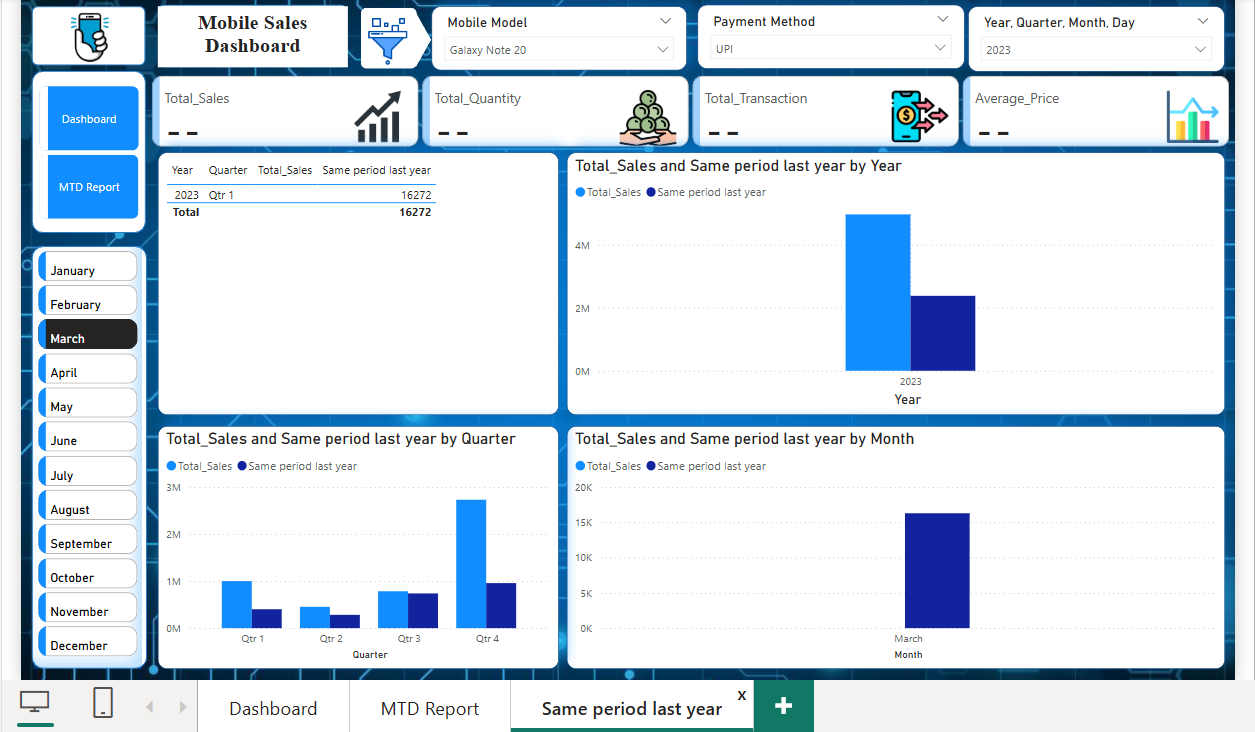

Layout of this report page (visuals, bound fields, positions):
{"tool":"powerbi","page":{"name":"Same period last year","canvas":[1280,720],"ordinal":2},"visuals":[{"type":"shape","box":[11.9,10.2,120.3,62.7],"z":0},{"type":"image","box":[35.6,5.1,72.9,72.9],"z":1000},{"type":"shape","box":[11.9,78,120.3,171.2],"z":2000},{"type":"cardVisual","fields":{"Data":["Sales_Data.Toatal_Sales","Sales_Data.Total_Quantity","Sales_Data.Total_Transaction","Sales_Data.Average_Price"]},"box":[132.9,77.8,1146,85.9],"z":3000},{"type":"slicer","fields":{"Values":["Sales_Data.Mobile Model"]},"box":[432.2,10.2,269.5,67.8],"z":4000},{"type":"slicer","fields":{"Values":["Sales_Data.Payment Method"]},"box":[713.6,8.5,281.4,67.8],"z":5000},{"type":"slicer","fields":{"Values":["CUSTOM_CALENDER.Date.Variation.Date Hierarchy.Year","CUSTOM_CALENDER.Date.Variation.Date Hierarchy.Quarter","CUSTOM_CALENDER.Date.Variation.Date Hierarchy.Month","CUSTOM_CALENDER.Date.Variation.Date Hierarchy.Day"]},"box":[998.4,9.8,270.5,68.9],"z":6000},{"type":"shape","box":[357.6,11.9,59.3,64.4],"z":7000},{"type":"shape","box":[400,16.9,32.2,57.6],"z":8000},{"type":"image","box":[311.5,16.4,150.8,60.7],"z":9000},{"type":"shape","box":[144.1,8.5,200,66.1],"z":10000},{"type":"textbox","box":[144.1,10.2,200,64.4],"z":11000},{"type":"shape","box":[11.3,262.6,121.6,445.8],"z":12000},{"type":"advancedSlicerVisual","fields":{"Values":["CUSTOM_CALENDER.Date.Variation.Date Hierarchy.Month"]},"box":[13,262.6,115.1,445.8],"z":13000},{"type":"tableEx","fields":{"Values":["CUSTOM_CALENDER.Date.Variation.Date Hierarchy.Year","CUSTOM_CALENDER.Date.Variation.Date Hierarchy.Quarter","Sales_Data.Total_Sales","Sales_Data.Same period last year"]},"box":[144.3,163.7,423.1,277.2],"z":14000},{"type":"clusteredColumnChart","fields":{"Category":["CUSTOM_CALENDER.Date.Variation.Date Hierarchy.Year","CUSTOM_CALENDER.Date.Variation.Date Hierarchy.Quarter"],"Y":["Sales_Data.Total_Sales","Sales_Data.Same period last year"]},"box":[575.4,163.7,693.8,277.2],"z":15000},{"type":"clusteredColumnChart","fields":{"Category":["CUSTOM_CALENDER.Date.Variation.Date Hierarchy.Year","CUSTOM_CALENDER.Date.Variation.Date Hierarchy.Quarter","CUSTOM_CALENDER.Date.Variation.Date Hierarchy.Month","CUSTOM_CALENDER.Date.Variation.Date Hierarchy.Day"],"Y":["Sales_Data.Total_Sales","Sales_Data.Same period last year"]},"box":[575.4,452.2,693.8,256.1],"z":16000},{"type":"clusteredColumnChart","fields":{"Category":["CUSTOM_CALENDER.Date.Variation.Date Hierarchy.Year","CUSTOM_CALENDER.Date.Variation.Date Hierarchy.Quarter","CUSTOM_CALENDER.Date.Variation.Date Hierarchy.Month","CUSTOM_CALENDER.Date.Variation.Date Hierarchy.Day"],"Y":["Sales_Data.Total_Sales","Sales_Data.Same period last year"]},"box":[144.3,452.2,423.1,256.1],"z":17000},{"type":"pageNavigator","box":[19.5,94,105.4,141],"z":18000}]}

Visuals, with their boxes in screenshot pixels (x1, y1, x2, y2):
shape: [x1=21, y1=0, x2=138, y2=61]
image: [x1=44, y1=0, x2=115, y2=66]
shape: [x1=21, y1=66, x2=138, y2=231]
cardVisual - Sales_Data.Toatal_Sales x Sales_Data.Total_Quantity: [x1=138, y1=65, x2=1246, y2=148]
slicer - Sales_Data.Mobile Model: [x1=428, y1=0, x2=688, y2=66]
slicer - Sales_Data.Payment Method: [x1=700, y1=0, x2=972, y2=64]
slicer - CUSTOM_CALENDER.Date.Variation.Date Hierarchy.Year x CUSTOM_CALENDER.Date.Variation.Date Hierarchy.Quarter: [x1=975, y1=0, x2=1237, y2=66]
shape: [x1=356, y1=2, x2=413, y2=64]
shape: [x1=397, y1=7, x2=428, y2=62]
image: [x1=311, y1=6, x2=457, y2=65]
shape: [x1=149, y1=0, x2=343, y2=62]
textbox: [x1=149, y1=0, x2=343, y2=62]
shape: [x1=21, y1=244, x2=138, y2=675]
advancedSlicerVisual - CUSTOM_CALENDER.Date.Variation.Date Hierarchy.Month: [x1=22, y1=244, x2=134, y2=675]
tableEx - CUSTOM_CALENDER.Date.Variation.Date Hierarchy.Year x CUSTOM_CALENDER.Date.Variation.Date Hierarchy.Quarter: [x1=149, y1=148, x2=558, y2=417]
clusteredColumnChart - CUSTOM_CALENDER.Date.Variation.Date Hierarchy.Year x CUSTOM_CALENDER.Date.Variation.Date Hierarchy.Quarter: [x1=566, y1=148, x2=1237, y2=417]
clusteredColumnChart - CUSTOM_CALENDER.Date.Variation.Date Hierarchy.Year x CUSTOM_CALENDER.Date.Variation.Date Hierarchy.Quarter: [x1=566, y1=427, x2=1237, y2=675]
clusteredColumnChart - CUSTOM_CALENDER.Date.Variation.Date Hierarchy.Year x CUSTOM_CALENDER.Date.Variation.Date Hierarchy.Quarter: [x1=149, y1=427, x2=558, y2=675]
pageNavigator: [x1=29, y1=81, x2=131, y2=217]
